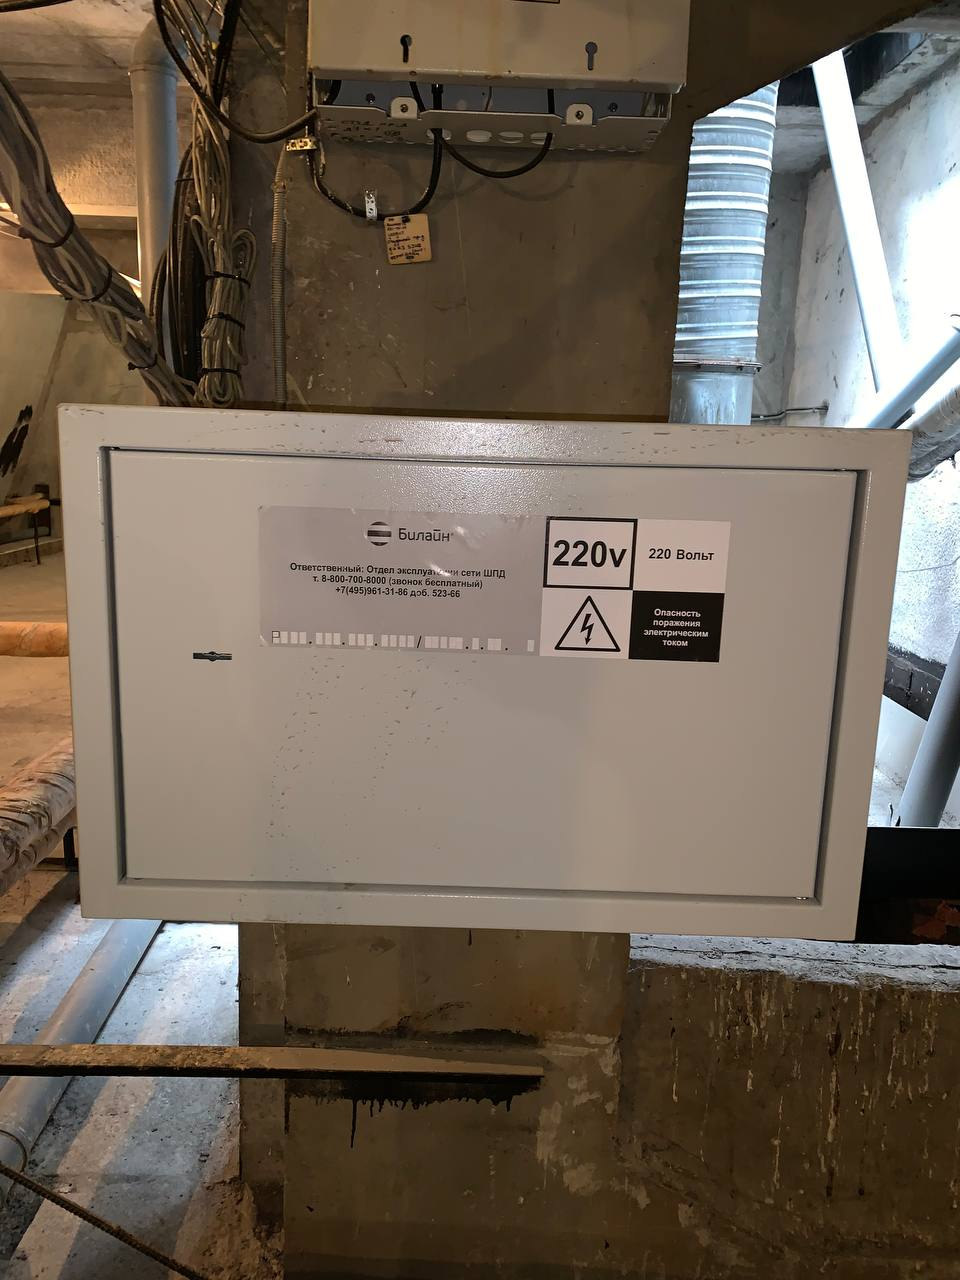shta-7m: (50, 395, 921, 952)
